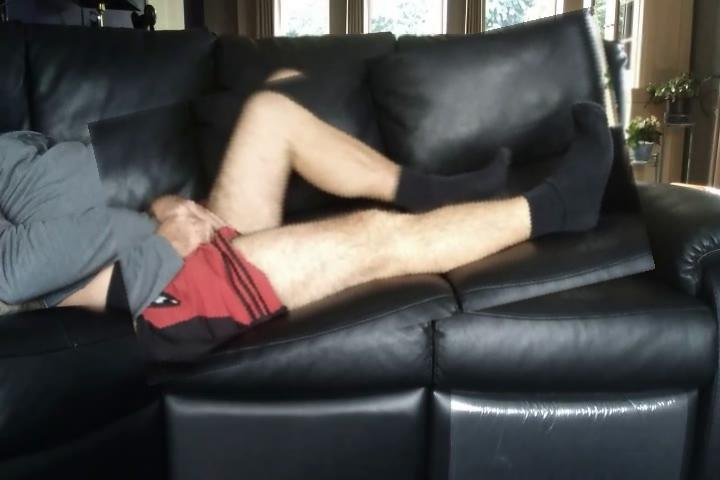lowerbody: (100, 35, 645, 359)
